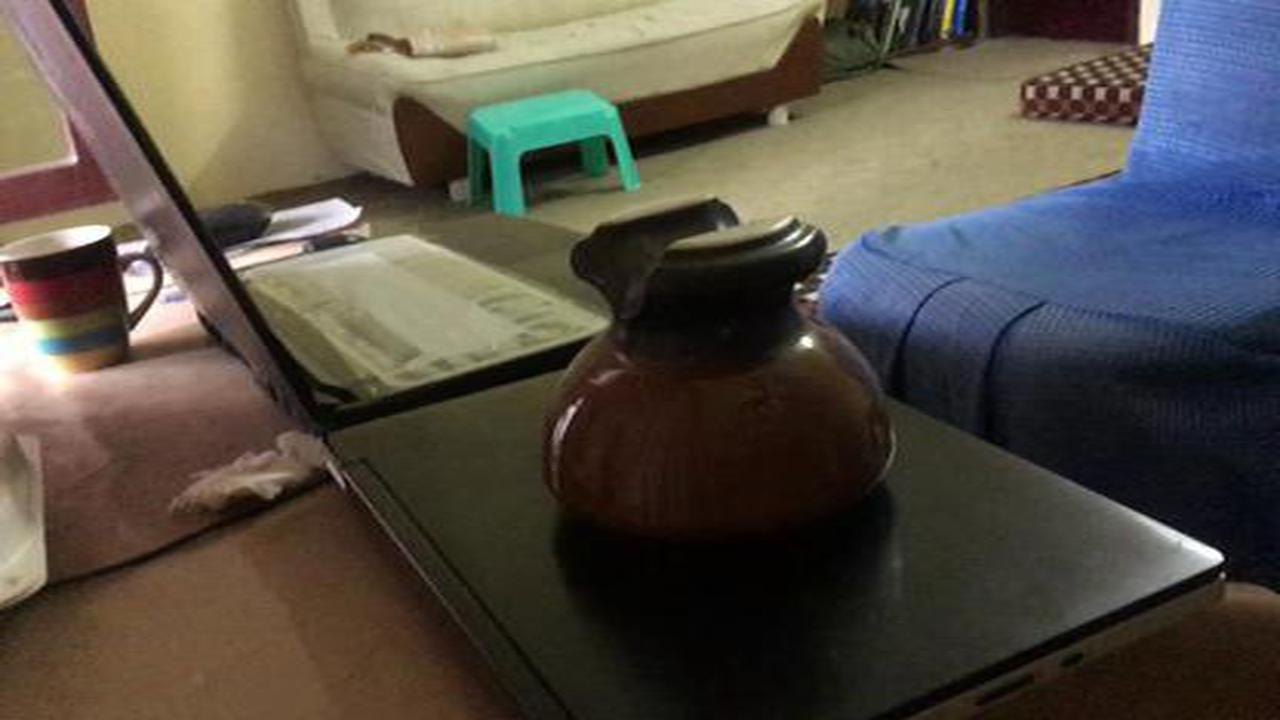insulator_pin: (505, 192, 921, 566)
